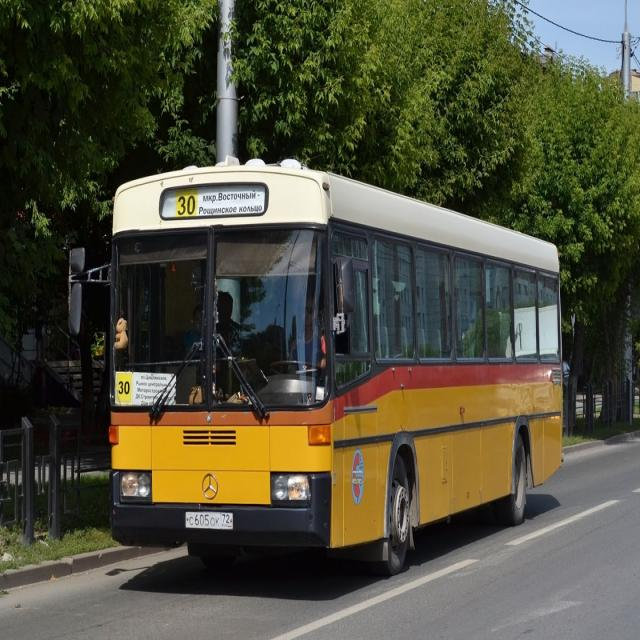number-of-bus: (176, 191, 198, 218), (116, 374, 134, 405)
